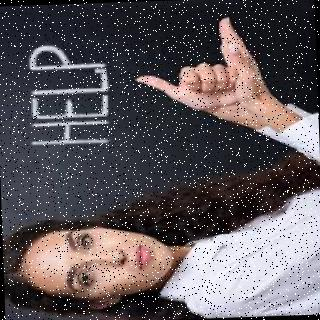Help: (128, 10, 270, 129)
